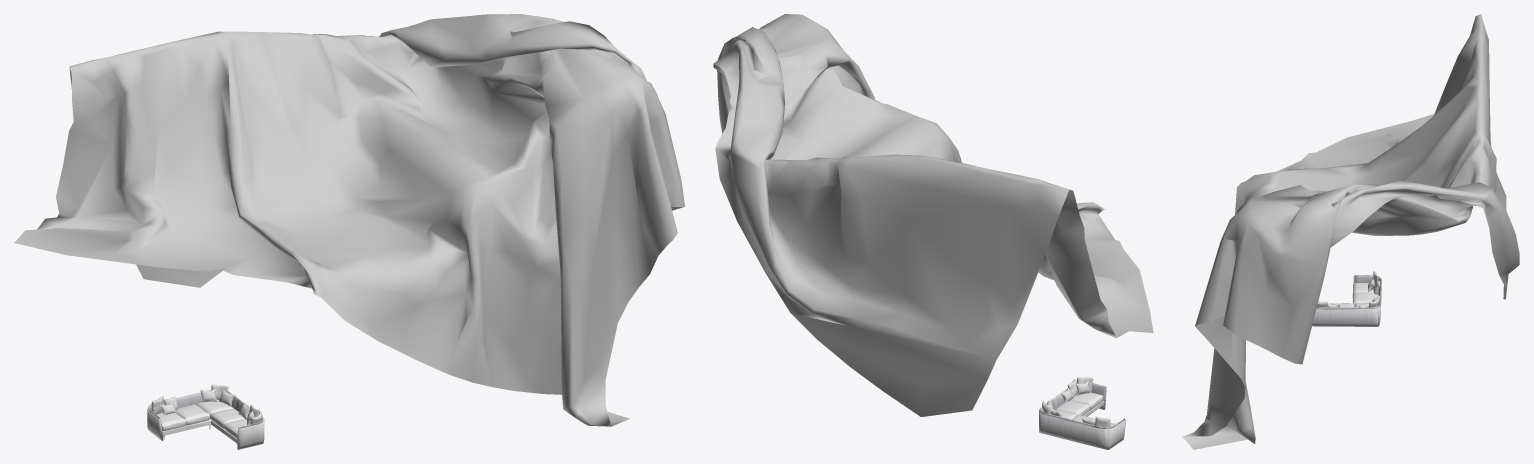
The model's file is sofa-12.glb.
3 views of the same model, side by side, from view 1: azimuth 30°, elevation 25°; view 2: azimuth 150°, elevation 25°; view 3: azimuth 270°, elevation 25° (orthographic). The views are drawn at different scales.
Visible parts, largest first — view 1: Line109_blanket_0, Kanaba; view 2: Line109_blanket_0, Kanaba; view 3: Line109_blanket_0, Kanaba.
Boxes of the visible parts, <box> form: Line109_blanket_0: <box>14,14,684,426</box>; Kanaba: <box>147,384,264,449</box>; Line109_blanket_0: <box>713,14,1153,416</box>; Kanaba: <box>1039,377,1126,449</box>; Line109_blanket_0: <box>1182,14,1519,449</box>; Kanaba: <box>1312,271,1381,326</box>.
Bounding box in the file's own units: 99.57 × 57.05 × 63.18.
Materials: 5 (4 with a texture image).
